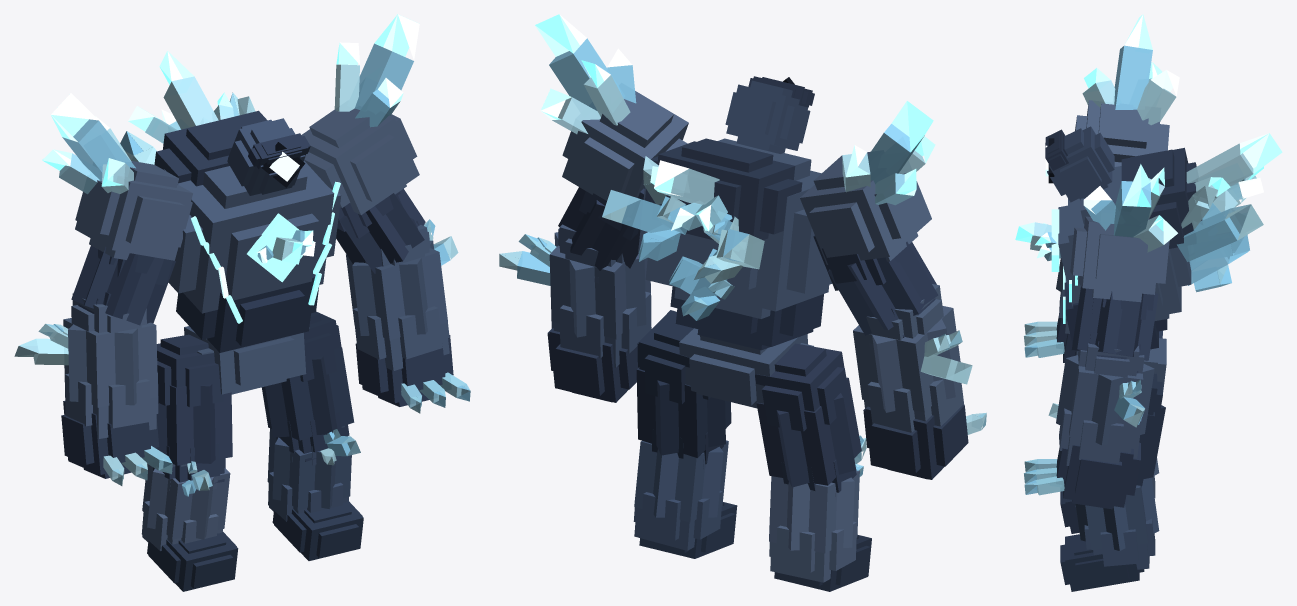
The picture shows the model from 3 angles, left to right: view 1: azimuth 30°, elevation 25°; view 2: azimuth 150°, elevation 25°; view 3: azimuth 270°, elevation 25°; orthographic projection. The views are drawn at different scales.
Parts seen in each view (by area): view 1: ShardGolem; view 2: ShardGolem; view 3: ShardGolem.
Boxes of the visible parts, x1,y1,x2,y2 form: ShardGolem: [14, 14, 470, 591]; ShardGolem: [499, 14, 986, 591]; ShardGolem: [1015, 14, 1282, 591].
Bounding box in the file's own units: 1.38 × 1.46 × 0.7654.
